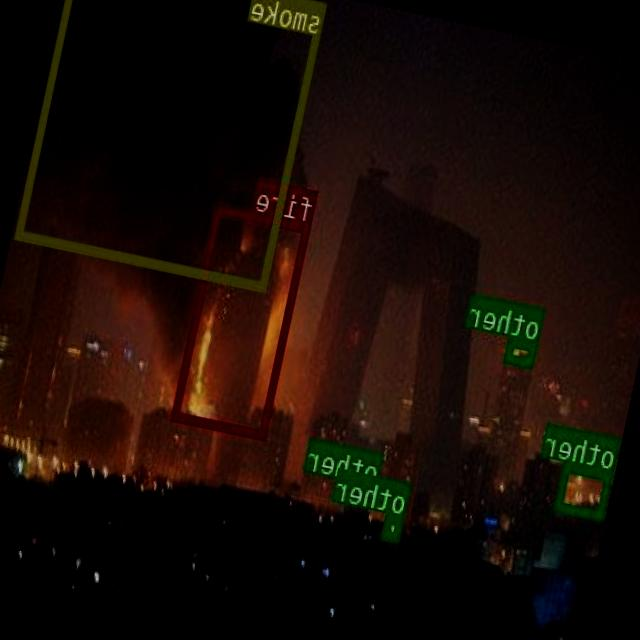fire: (172, 205, 312, 440)
smoke: (15, 0, 328, 290)
